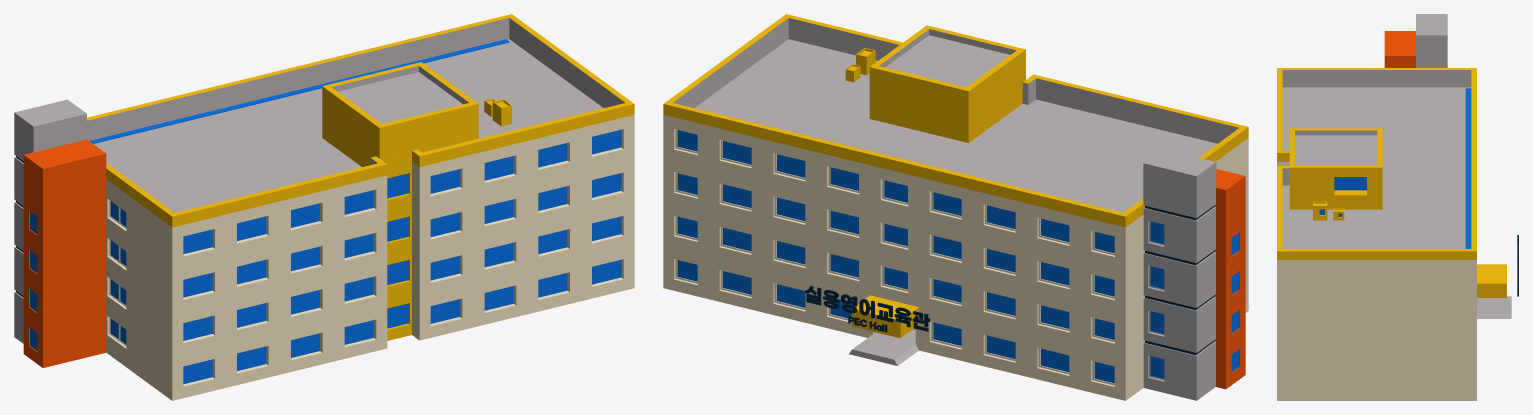
Rendered from 영어교육관.fbx.
3 views of the same model, side by side, from view 1: azimuth 30°, elevation 25°; view 2: azimuth 150°, elevation 25°; view 3: azimuth 270°, elevation 25° (orthographic). The views are drawn at different scales.
Visible parts, largest first — view 1: 실용영어교육관, Cube_22, Cube_10_2, Cube_44, Cube_45, Cube_21, Cube_46, Cube_6, Cube_11, Cube_10; view 2: 실용영어교육관, Cube_21, Cube_10_2, Cube_6, Cube_22, Cube_7, Extrude_1, Cube_8, Cube_9, Cube_10; view 3: 실용영어교육관, Cube_10_2, Cube_21, Cube_22, Cube_6, Cube_47, Cube_11_2.
Part boxes in pixels (x1=…): 실용영어교육관: x1=87, y1=14, x2=634, y2=400; Cube_22: x1=23, y1=139, x2=106, y2=367; Cube_10_2: x1=322, y1=62, x2=478, y2=166; Cube_44: x1=430, y1=130, x2=621, y2=323; Cube_45: x1=183, y1=190, x2=373, y2=384; Cube_21: x1=14, y1=99, x2=86, y2=343; Cube_46: x1=387, y1=173, x2=408, y2=328; Cube_6: x1=89, y1=39, x2=509, y2=143; Cube_11: x1=110, y1=201, x2=126, y2=344; Cube_10: x1=30, y1=211, x2=37, y2=350; 실용영어교육관: x1=663, y1=14, x2=1248, y2=400; Cube_21: x1=1143, y1=149, x2=1216, y2=400; Cube_10_2: x1=869, y1=25, x2=1025, y2=142; Cube_6: x1=677, y1=130, x2=1114, y2=339; Cube_22: x1=1214, y1=169, x2=1245, y2=389; Cube_7: x1=933, y1=322, x2=1114, y2=383; Extrude_1: x1=805, y1=285, x2=930, y2=331; Cube_8: x1=677, y1=260, x2=857, y2=319; Cube_9: x1=1150, y1=221, x2=1164, y2=378; Cube_10: x1=1231, y1=232, x2=1238, y2=371; 실용영어교육관: x1=1277, y1=68, x2=1511, y2=400; Cube_10_2: x1=1289, y1=128, x2=1382, y2=209; Cube_21: x1=1416, y1=14, x2=1447, y2=67; Cube_22: x1=1384, y1=31, x2=1415, y2=67; Cube_6: x1=1465, y1=88, x2=1471, y2=248; Cube_47: x1=1334, y1=177, x2=1366, y2=190; Cube_11_2: x1=1313, y1=201, x2=1327, y2=220.
Size of the model in its own units: 634 by 259 by 311.
